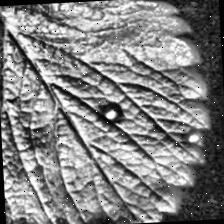Leaf Spot: (0, 0, 215, 224)
